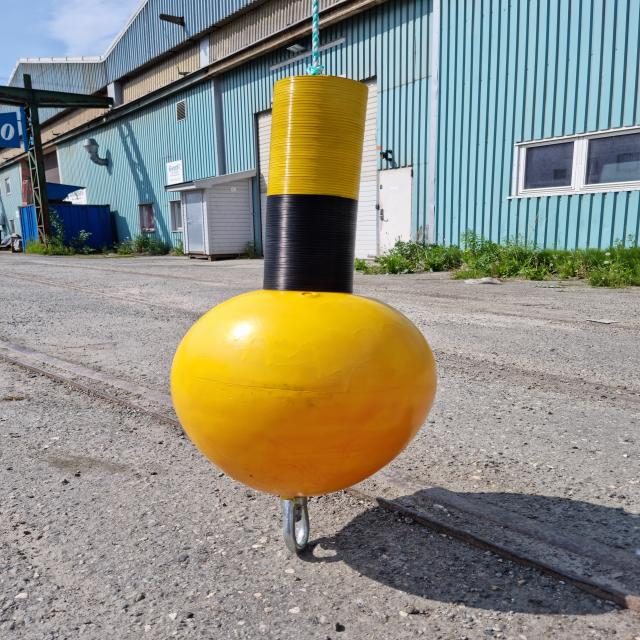west: (169, 74, 439, 500)
